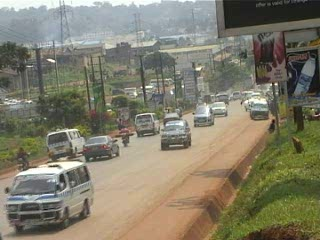Car: (157, 118, 193, 153), (80, 134, 121, 160), (191, 104, 214, 128), (211, 99, 229, 118), (161, 112, 179, 125)
Motorcycle: (14, 156, 29, 174), (120, 136, 131, 148), (177, 110, 182, 119)
